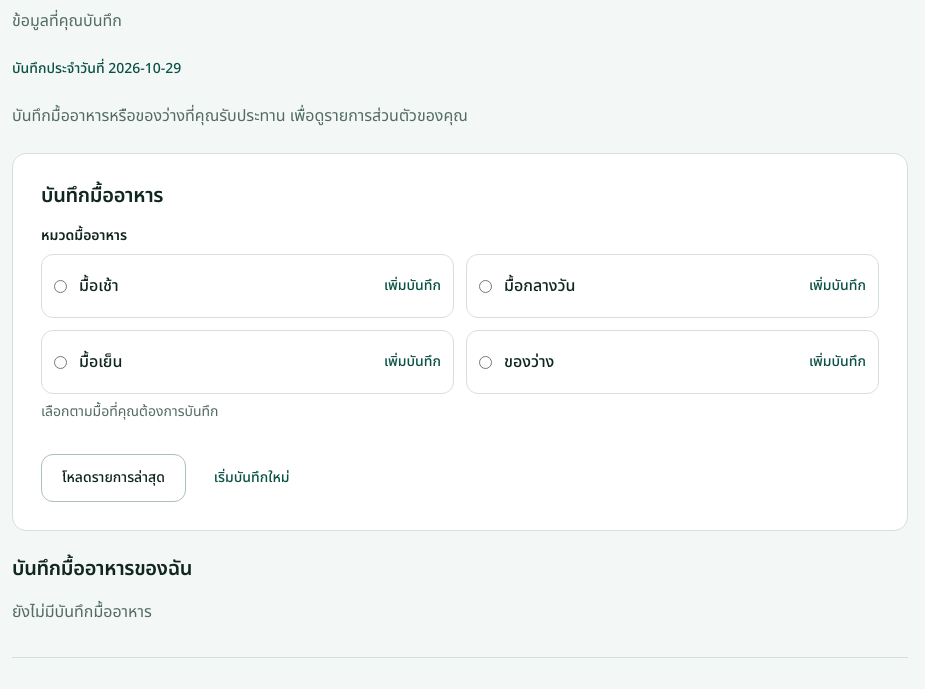
Scenario: Daily Wellness interactions › refreshes the full date aggregate after a confirmed create
(page scrolled)
Step 1. Click the radio button named "category" → (486, 362), box [479,356,492,369]
(page scrolled)
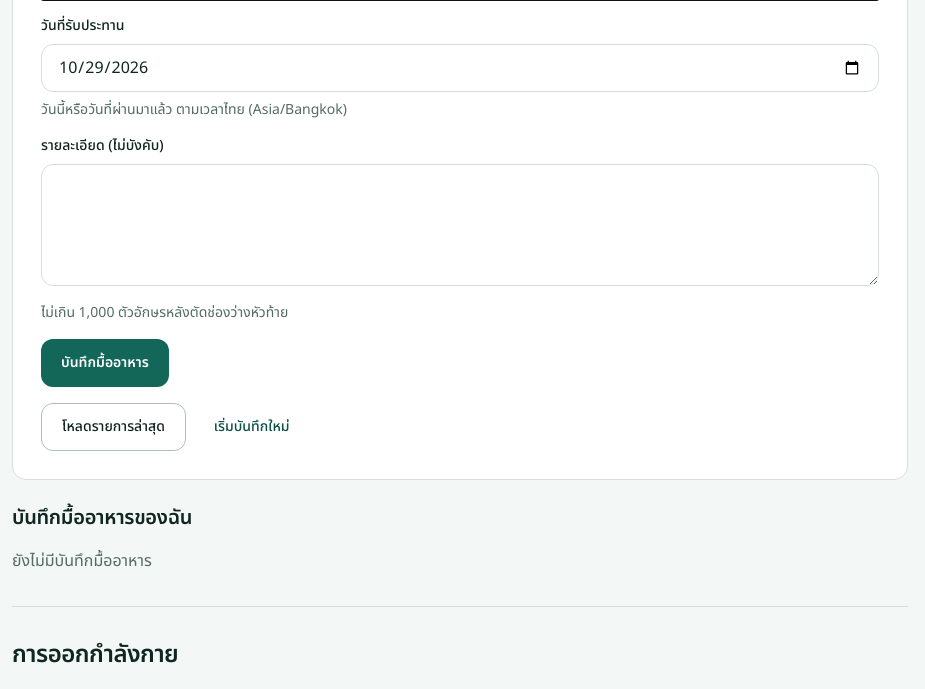
Step 2. Click the button "บันทึกมื้ออาหาร" → (105, 363), box [41,339,169,387]
(page scrolled)
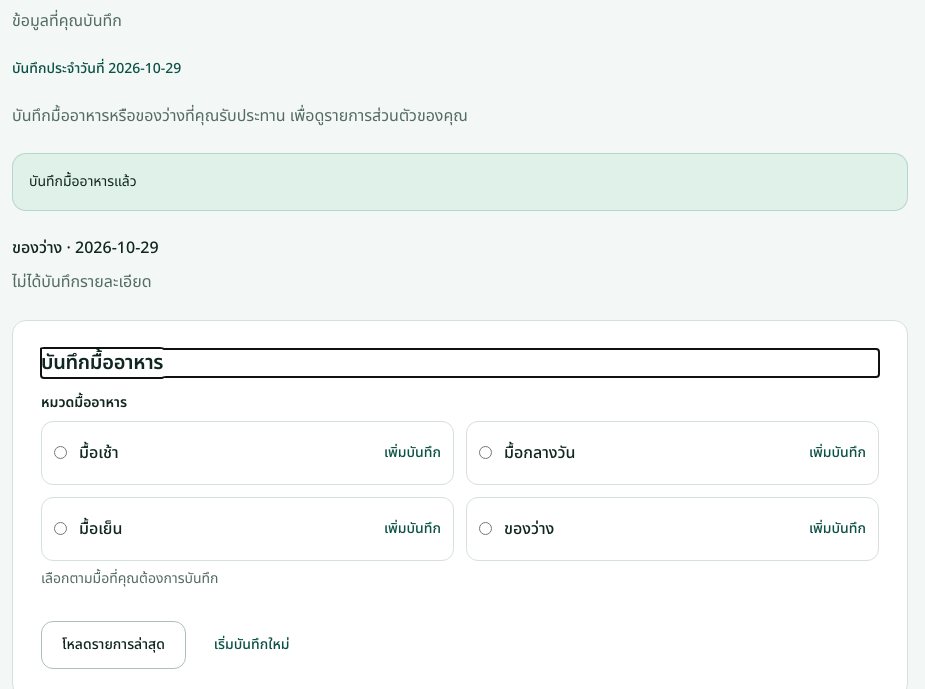
Expected: the text "บันทึกมื้ออาหารแล้ว" is shown, [12,153,908,211]
